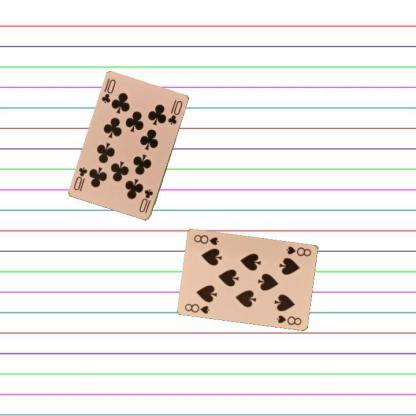10c: (136, 187, 154, 214), (99, 77, 117, 104)
8s: (284, 243, 312, 258), (182, 301, 211, 315)
